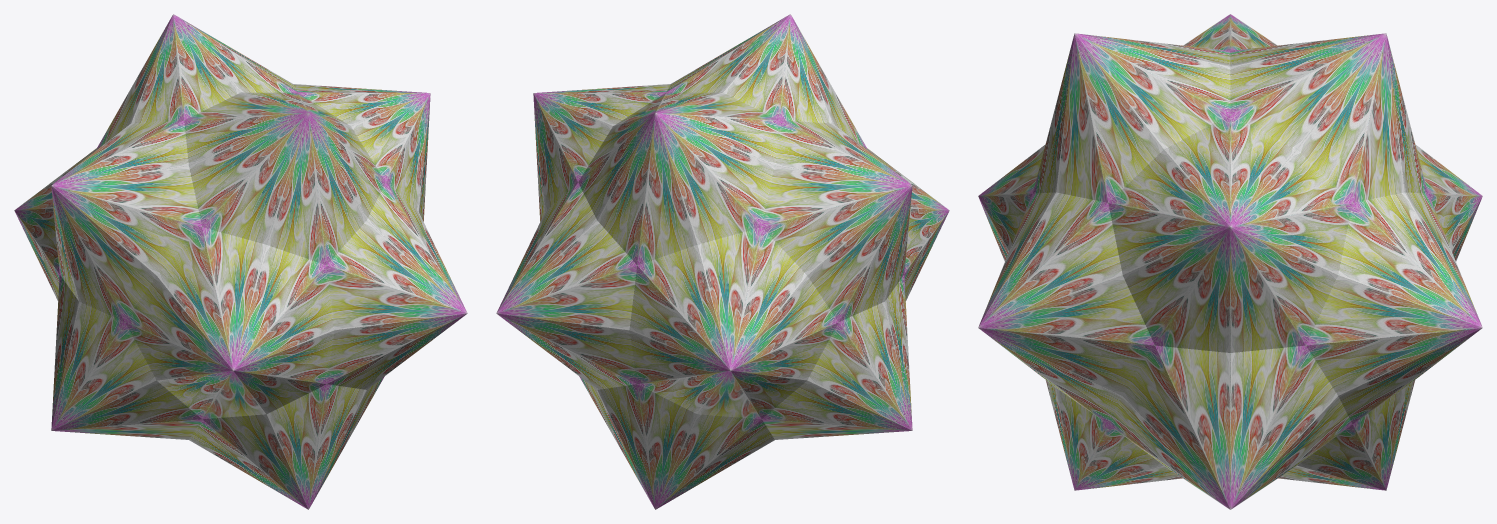
The model's file is SmallDodecacronicHexecontahedron6.obj.
3 views of the same model, side by side, from view 1: azimuth 30°, elevation 25°; view 2: azimuth 150°, elevation 25°; view 3: azimuth 270°, elevation 25° (orthographic). The views are drawn at different scales.
Size of the model in its own units: 5.24 by 5.24 by 5.24.
1 material, 1 textured.
